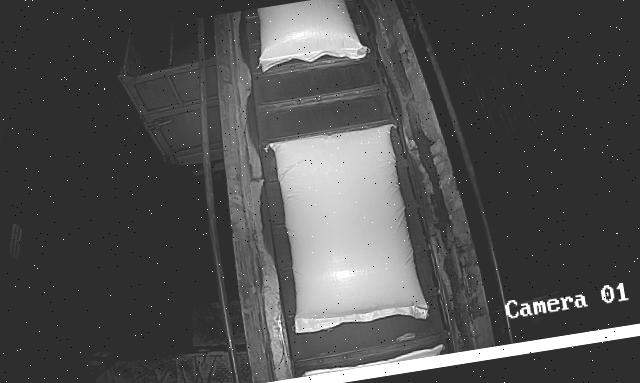bag: (267, 122, 430, 339), (251, 0, 369, 74)
